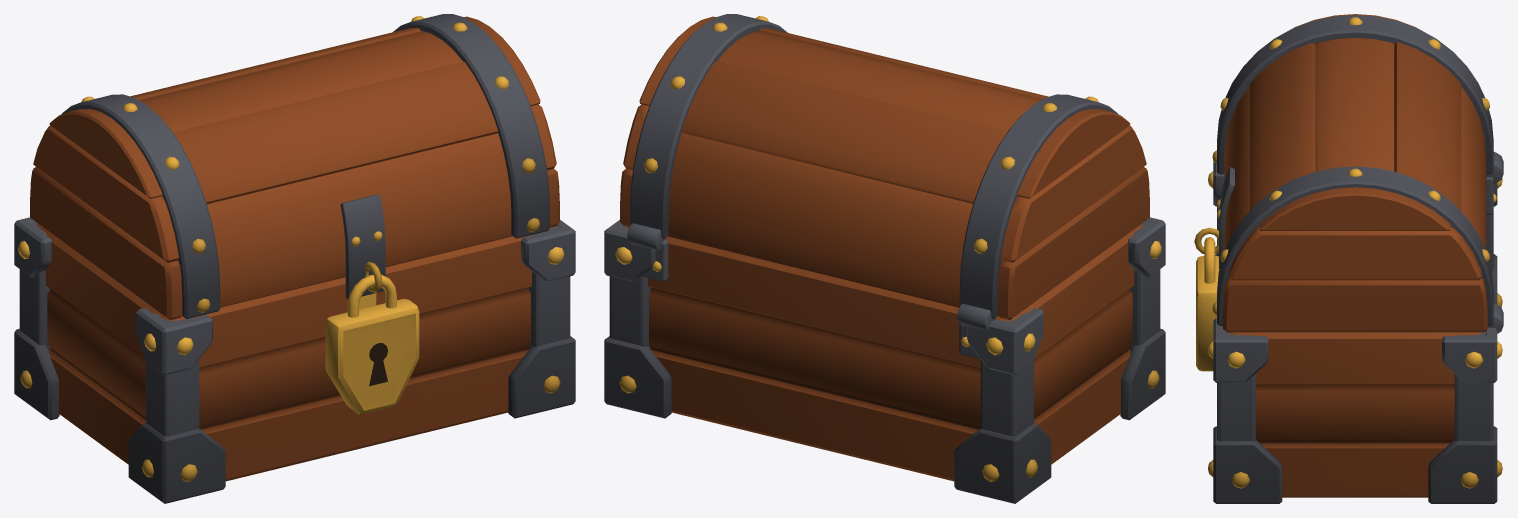
File: treasure_chest.glb
3 renders of one model, left to right at view 1: azimuth 30°, elevation 25°; view 2: azimuth 150°, elevation 25°; view 3: azimuth 270°, elevation 25°, orthographic. The views are drawn at different scales.
Visible parts, largest first — view 1: chest_lid, chest_base, chest_corner_plates, chest_lid_bands, chest_lock, chest_metal_bands, chest_hasp, chest_rivets, chest_lid_rivets; view 2: chest_lid, chest_base, chest_corner_plates, chest_lid_bands, chest_metal_bands, chest_rivets, chest_lid_rivets; view 3: chest_lid, chest_base, chest_lid_bands, chest_corner_plates, chest_metal_bands, chest_lock, chest_rivets, chest_hasp, chest_lid_rivets.
Part boxes in pixels (x1,y1,x2,y2): chest_lid: [30, 16, 559, 319]; chest_base: [37, 224, 552, 481]; chest_corner_plates: [14, 217, 575, 503]; chest_lid_bands: [61, 14, 549, 318]; chest_lock: [325, 275, 419, 413]; chest_metal_bands: [19, 221, 570, 436]; chest_hasp: [340, 194, 385, 299]; chest_rivets: [18, 241, 564, 481]; chest_lid_rivets: [81, 16, 540, 312]; chest_lid: [620, 16, 1149, 319]; chest_base: [627, 224, 1142, 481]; chest_corner_plates: [604, 217, 1165, 503]; chest_lid_bands: [630, 14, 1118, 318]; chest_metal_bands: [609, 221, 1160, 436]; chest_rivets: [615, 241, 1161, 481]; chest_lid_rivets: [644, 16, 1098, 253]; chest_lid: [1223, 14, 1487, 332]; chest_base: [1228, 332, 1481, 497]; chest_lid_bands: [1217, 15, 1493, 325]; chest_corner_plates: [1213, 151, 1497, 503]; chest_metal_bands: [1217, 152, 1503, 441]; chest_lock: [1196, 237, 1219, 371]; chest_rivets: [1208, 171, 1502, 488]; chest_hasp: [1194, 167, 1234, 268]; chest_lid_rivets: [1212, 17, 1489, 315].
Size of the model in its own units: 1 by 0.76 by 0.6735.
